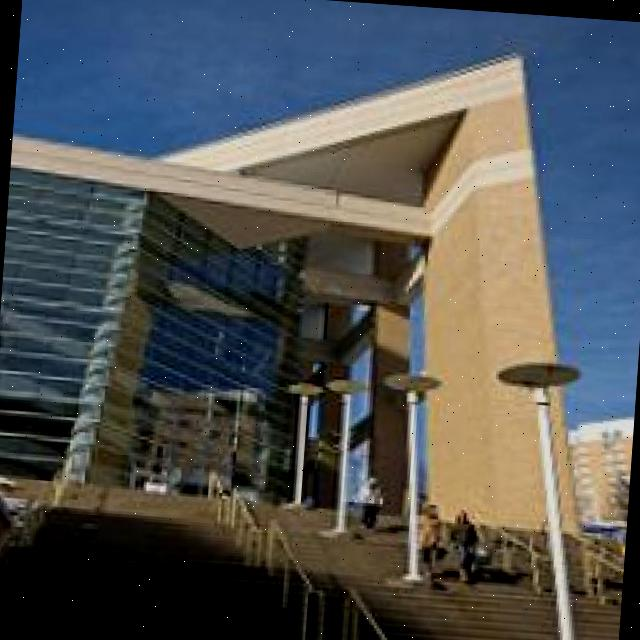stairs: (0, 487, 623, 640)
